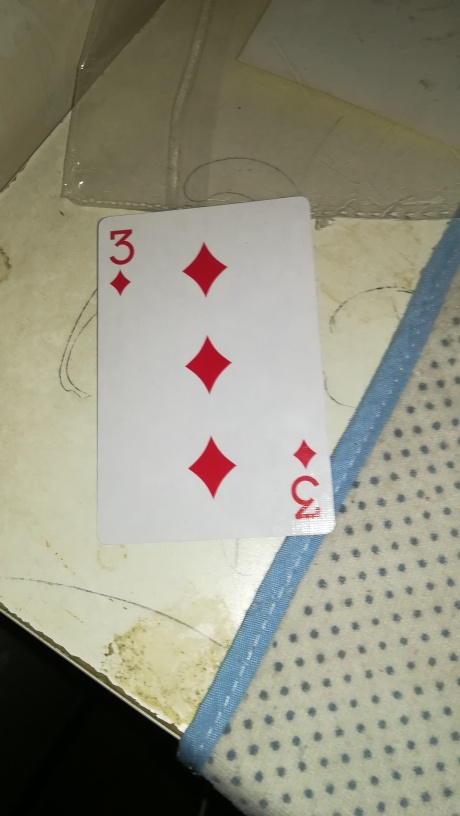fk 3: (88, 192, 341, 544)
